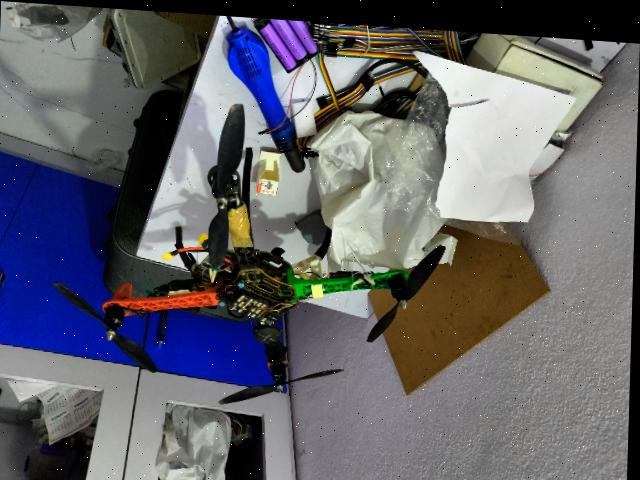drone: (52, 91, 465, 407)
